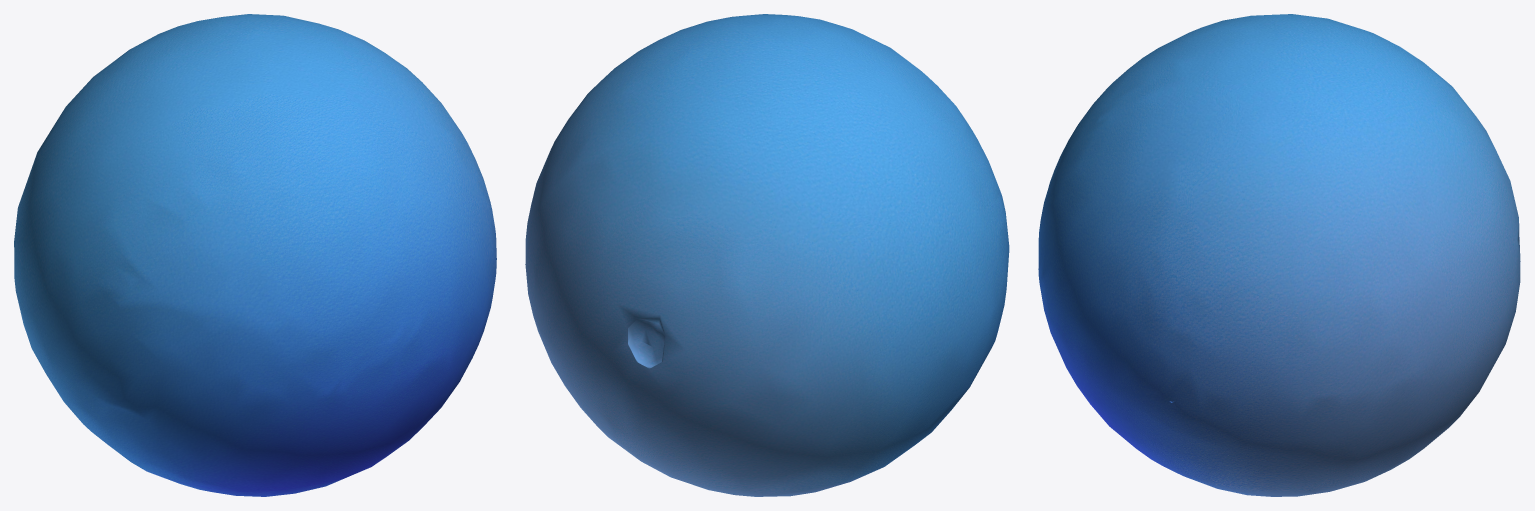
The model's file is blue glowing ball 3d (1).glb.
3 renders of one model, left to right at view 1: azimuth 30°, elevation 25°; view 2: azimuth 150°, elevation 25°; view 3: azimuth 270°, elevation 25°, orthographic.
Visible parts, largest first — view 1: tripo_node_660c59c6-19bb-4038-b3fc-1d19c9f5c23e; view 2: tripo_node_660c59c6-19bb-4038-b3fc-1d19c9f5c23e; view 3: tripo_node_660c59c6-19bb-4038-b3fc-1d19c9f5c23e.
Boxes of the visible parts, left/top/right/bottom form: tripo_node_660c59c6-19bb-4038-b3fc-1d19c9f5c23e: left=14, top=14, right=496, bottom=496; tripo_node_660c59c6-19bb-4038-b3fc-1d19c9f5c23e: left=525, top=14, right=1009, bottom=496; tripo_node_660c59c6-19bb-4038-b3fc-1d19c9f5c23e: left=1038, top=14, right=1520, bottom=496.
Bounding box in the file's own units: 0.9588 × 0.9596 × 0.9536.
Materials: 1 (1 with a texture image).
